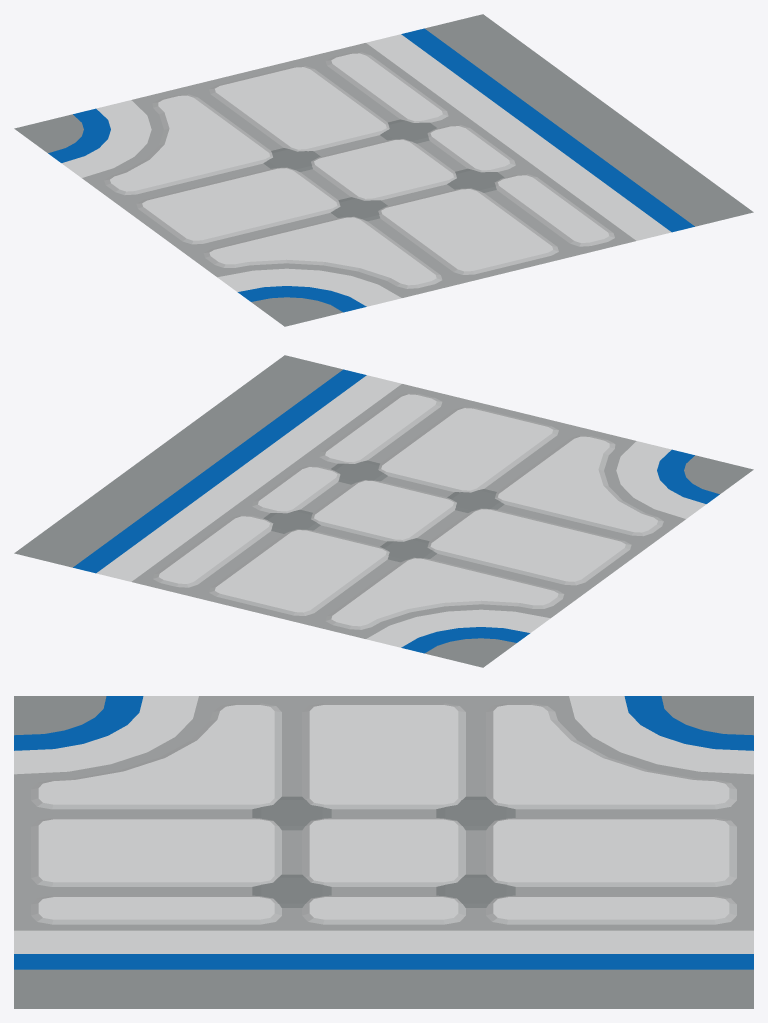
Rendered from Floor_type_A_014.fbx.
The picture shows the model from 3 angles, top to bottom: view 1: azimuth 30°, elevation 25°; view 2: azimuth 150°, elevation 25°; view 3: azimuth 270°, elevation 25°; orthographic projection. The views are drawn at different scales.
Parts seen in each view (by area): view 1: Floor_type_A_014; view 2: Floor_type_A_014; view 3: Floor_type_A_014.
Boxes of the visible parts, left/top/right/bottom form: Floor_type_A_014: left=14, top=14, right=753, bottom=326; Floor_type_A_014: left=14, top=355, right=753, bottom=667; Floor_type_A_014: left=14, top=696, right=753, bottom=1008.
Bounding box in the file's own units: 400 × 400 × 1.34.
